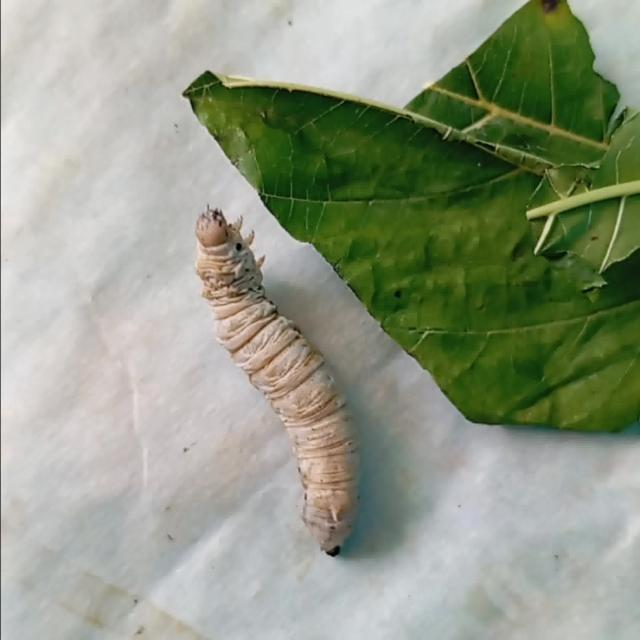Grasserie: (158, 187, 408, 587)
